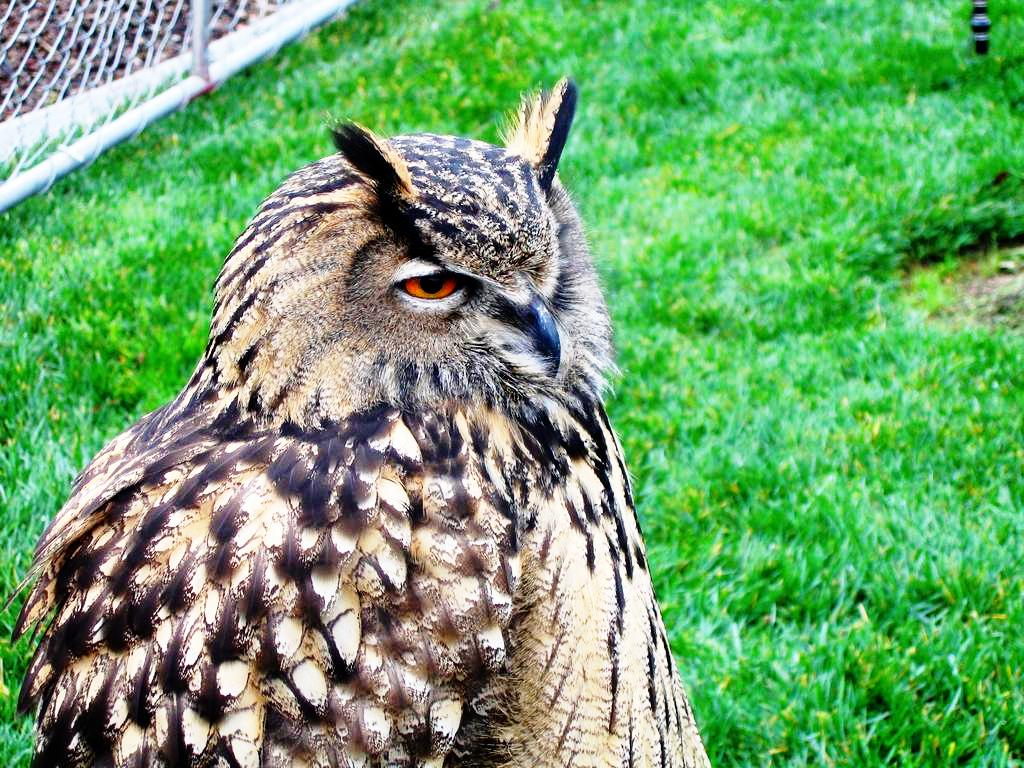Owl: (0, 73, 710, 767)
